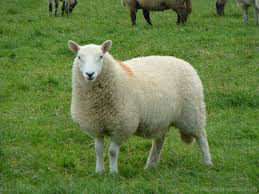koyun: (67, 39, 215, 175)
